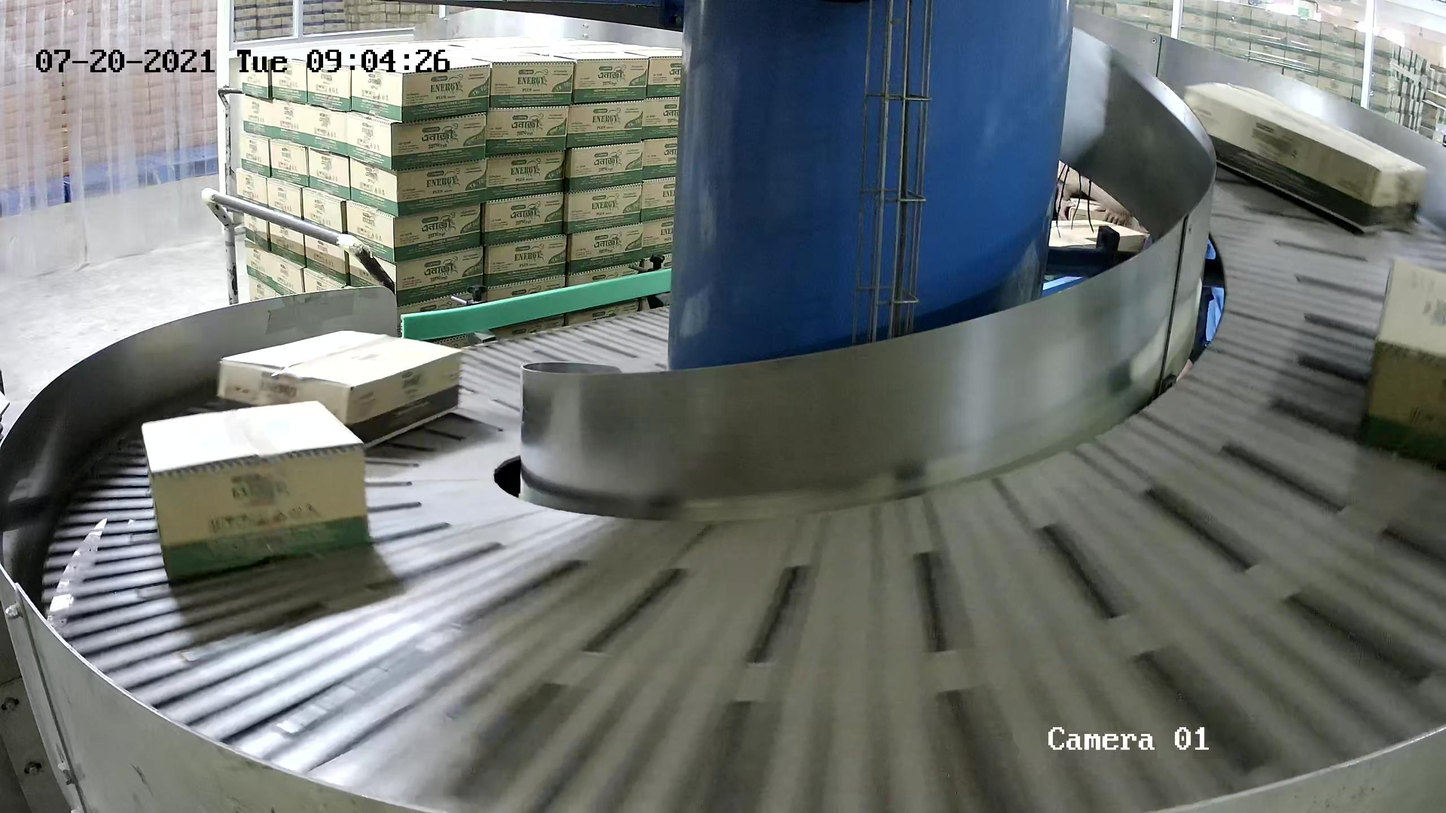Box: (141, 399, 372, 583), (1182, 80, 1429, 233), (216, 328, 464, 452), (1361, 258, 1446, 467)
